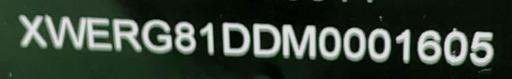letter: (42, 12, 88, 53), (280, 24, 318, 61), (110, 17, 144, 54), (139, 18, 173, 55), (218, 20, 252, 57), (16, 13, 48, 50), (84, 14, 114, 51), (252, 20, 282, 57), (469, 31, 499, 68), (366, 26, 394, 63), (416, 27, 442, 66), (172, 19, 198, 56), (442, 28, 468, 65), (342, 26, 366, 63), (318, 26, 342, 61), (198, 20, 218, 57), (394, 26, 412, 65)
